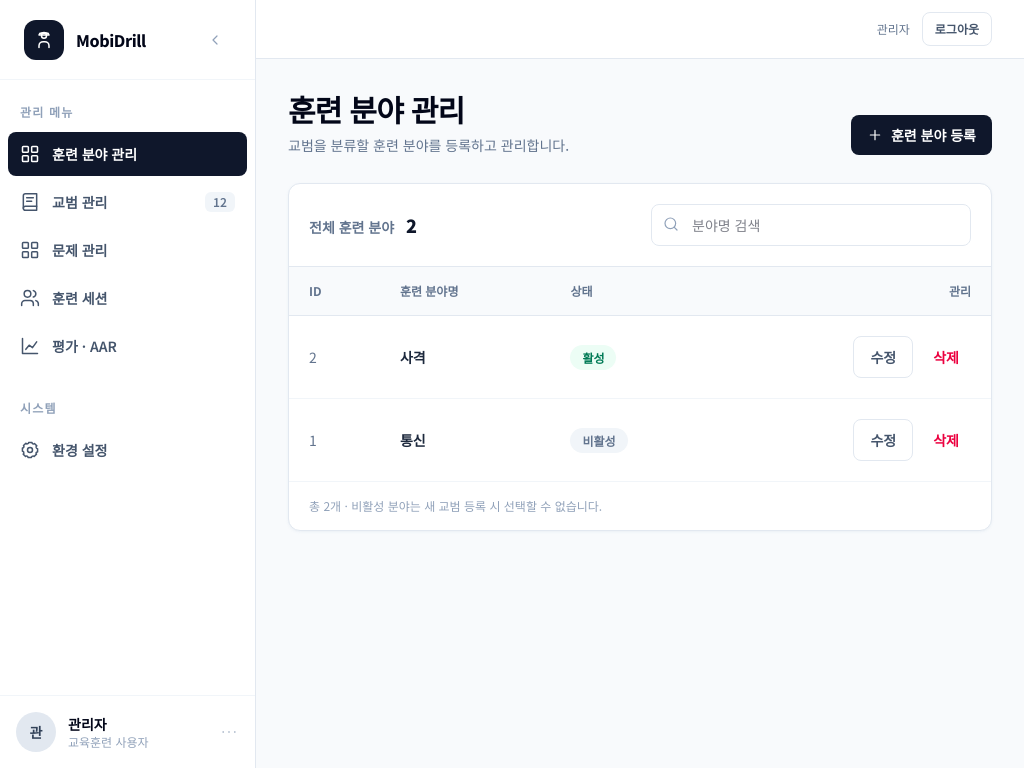
POST 실패 시 기존 목록과 대화상자를 유지한다
Click the button "훈련 분야 등록".
click(921, 135)  # box [851, 115, 992, 155]
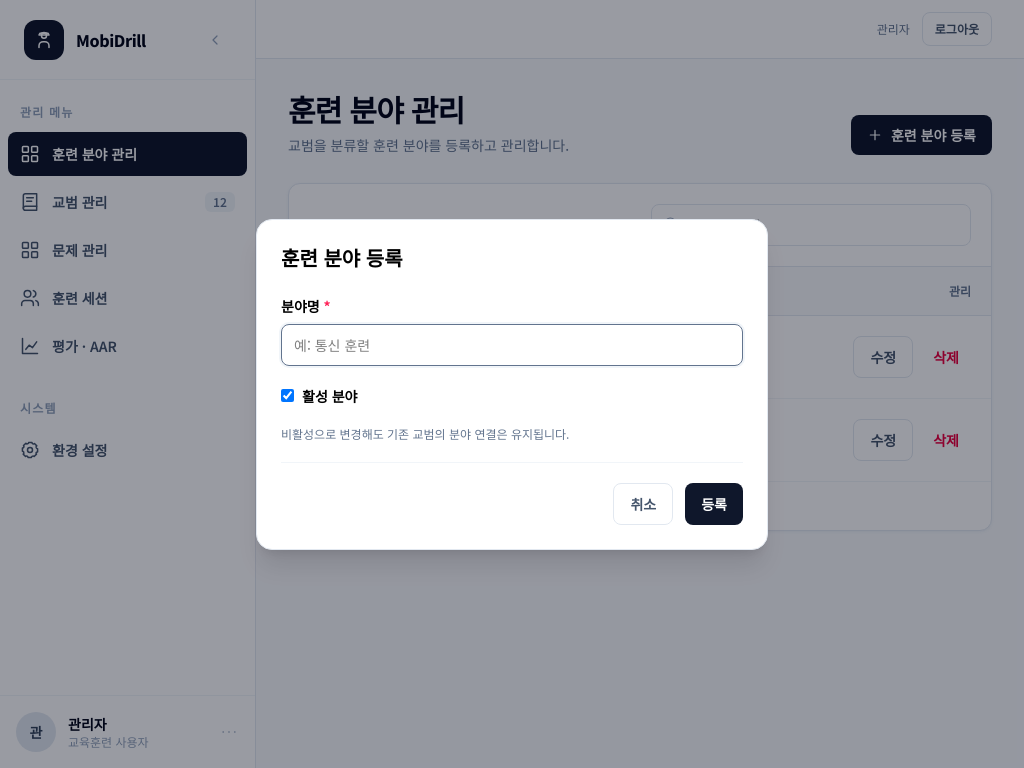
Type "새 분야" into the field labelled "분야명 *".
click(512, 344); type("새 분야")  # box [281, 324, 743, 366]
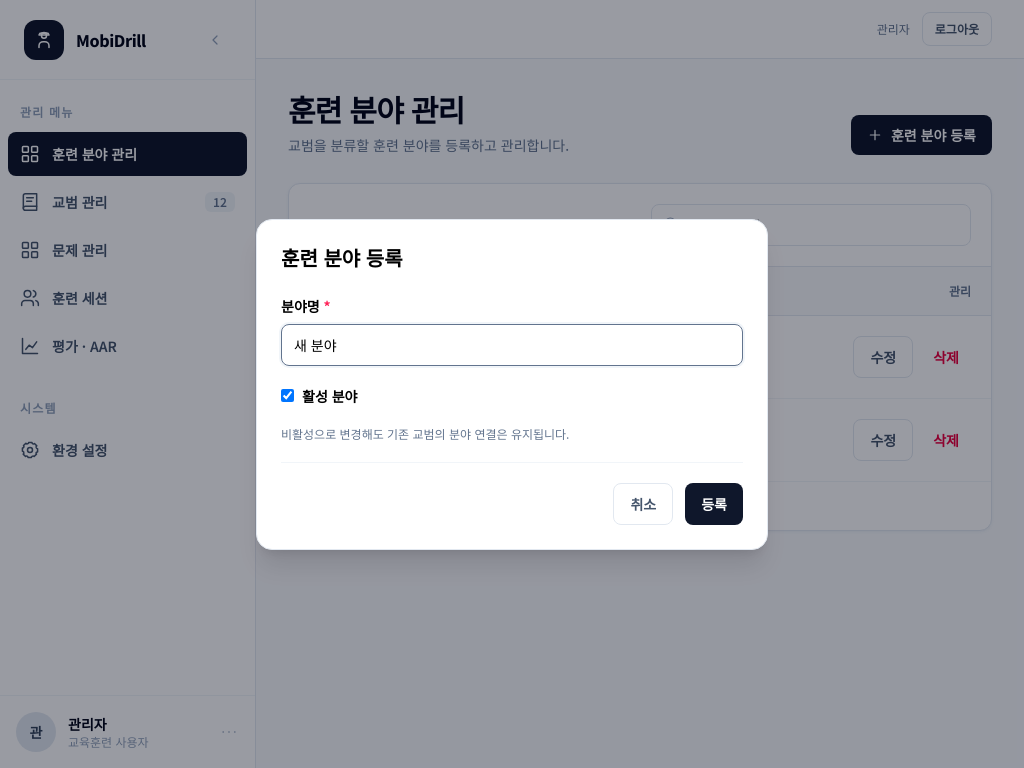
Click the button "등록".
click(714, 504)  # box [685, 482, 743, 524]
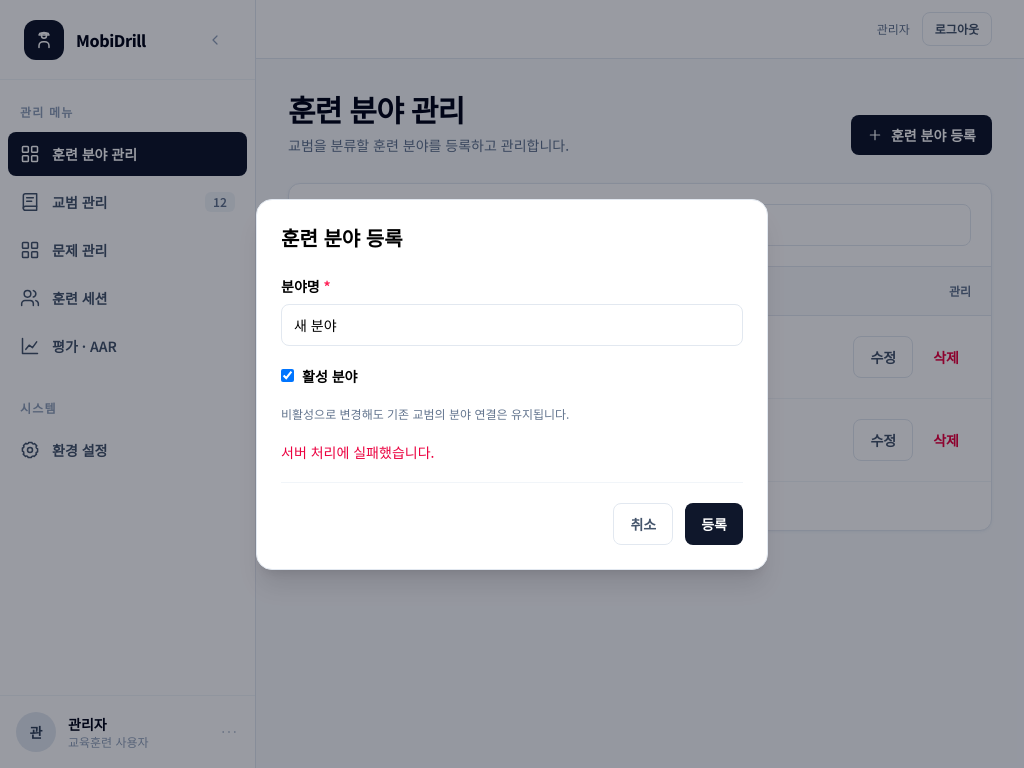
Expected: the column heading "사격" is shown, [380, 316, 550, 398]
Result: the dialog is shown at [256, 198, 768, 570]
Result: the message shows "서버 처리" at [281, 442, 434, 462]
